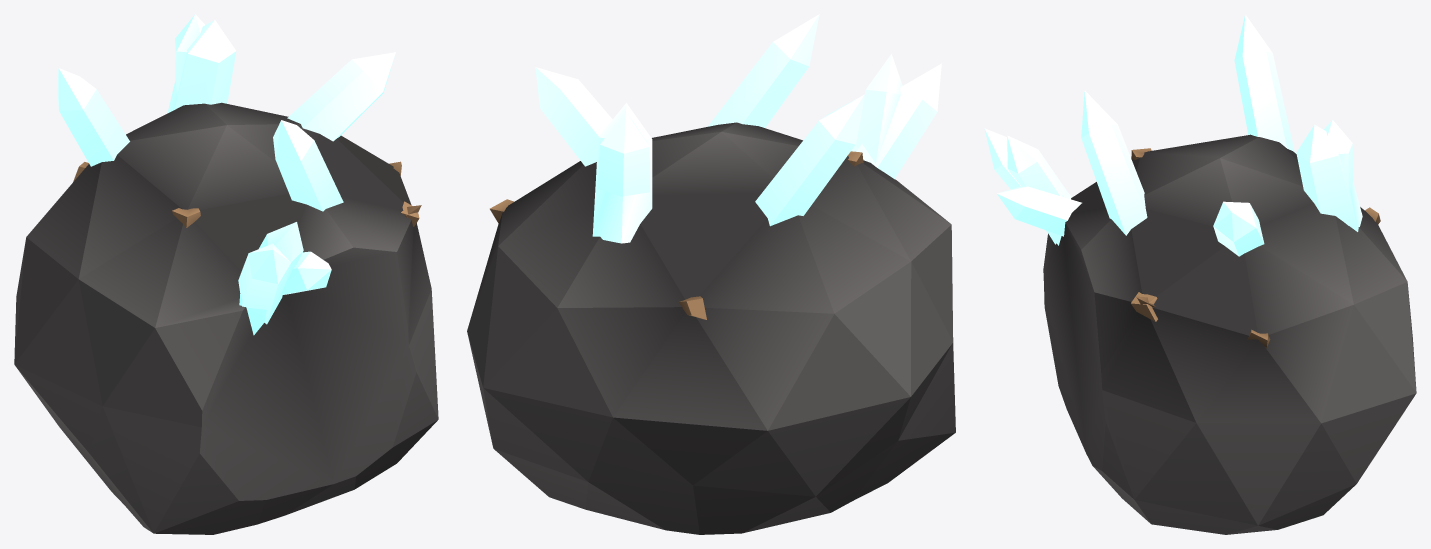
Rendered from obj_oficio_veta.glb.
3 views of the same model, side by side, from view 1: azimuth 30°, elevation 25°; view 2: azimuth 150°, elevation 25°; view 3: azimuth 270°, elevation 25° (orthographic). The views are drawn at different scales.
Visible parts, largest first — view 1: propforge-libre-oficio_veta; view 2: propforge-libre-oficio_veta; view 3: propforge-libre-oficio_veta.
Boxes of the visible parts, left/top/right/bottom form: propforge-libre-oficio_veta: left=14, top=14, right=438, bottom=534; propforge-libre-oficio_veta: left=467, top=14, right=955, bottom=534; propforge-libre-oficio_veta: left=984, top=14, right=1416, bottom=534.
Size of the model in its own units: 0.6877 by 0.7029 by 0.7158.
